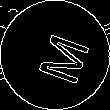M_W: (23, 25, 87, 85)
